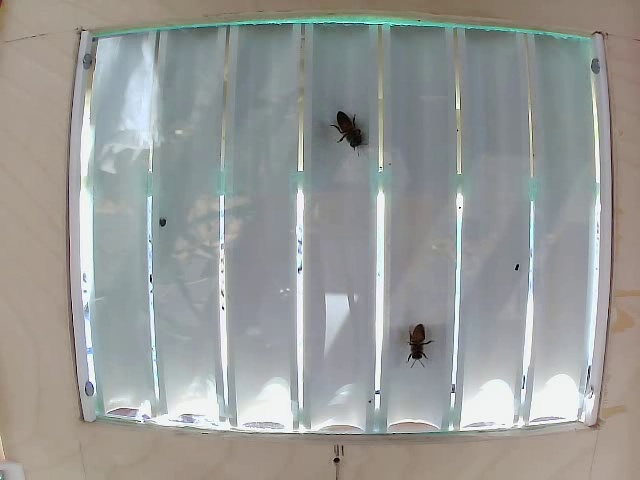bee: (326, 111, 373, 167), (405, 319, 445, 378)
